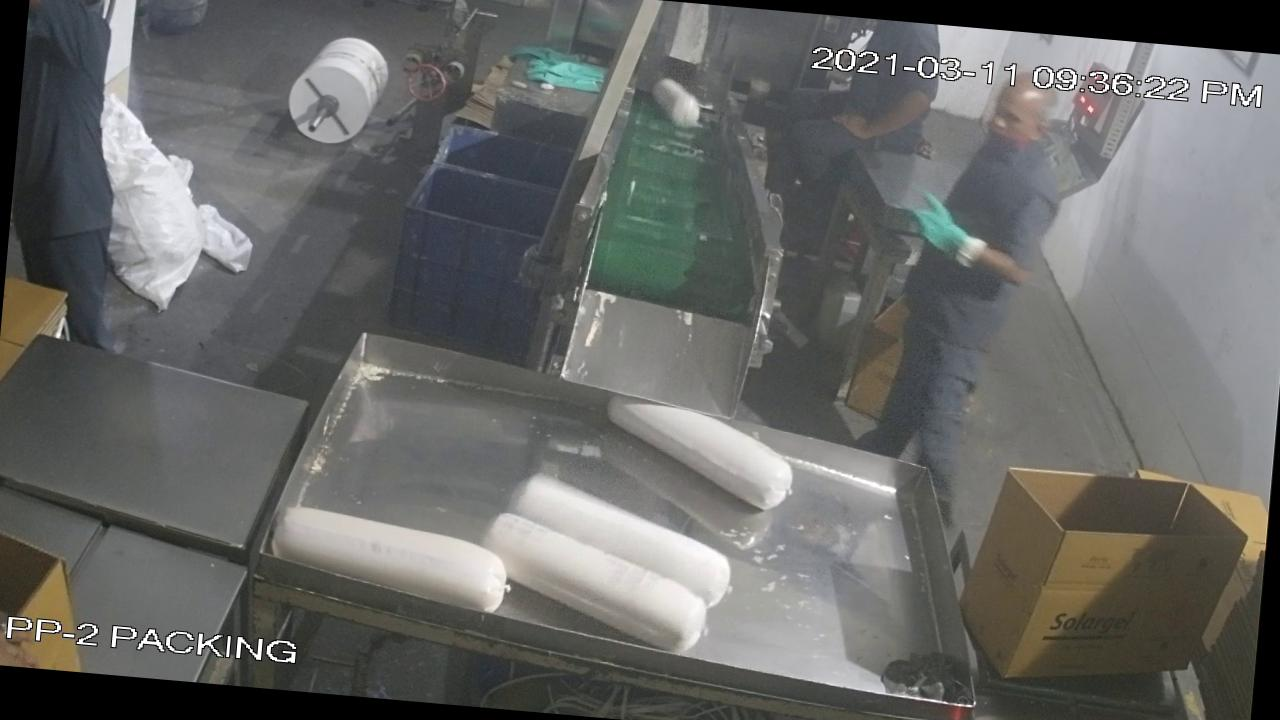Gloves: (890, 186, 991, 260)
No-gloves: (830, 75, 940, 154)
